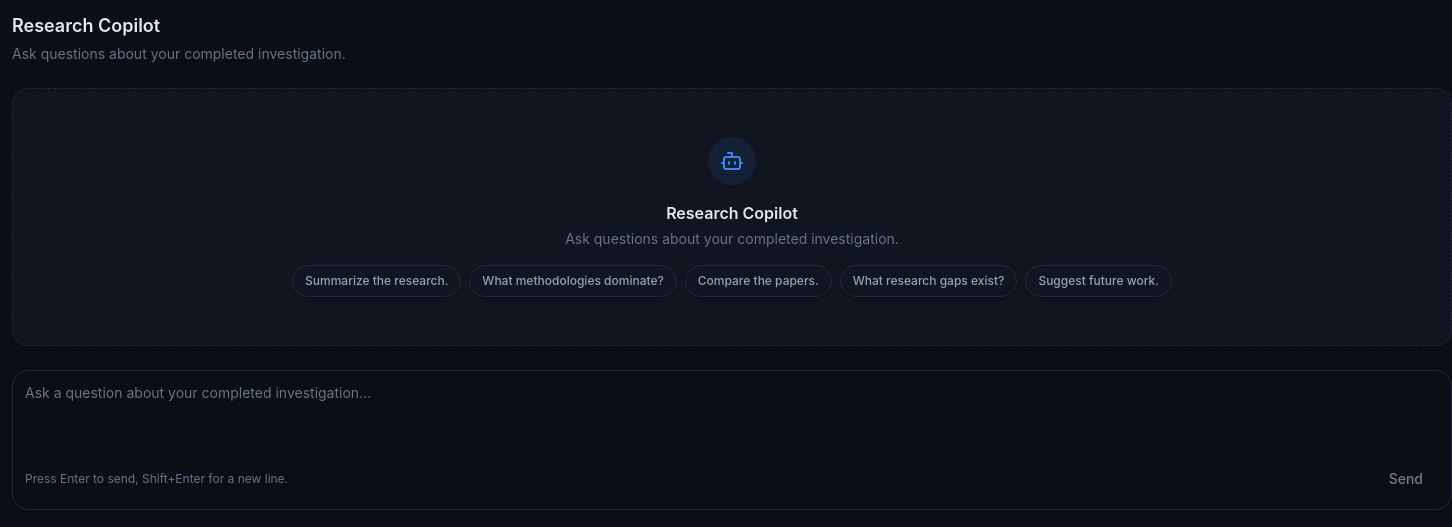
CopilotPage › shows retry when stream errors
Expected: the 1st heading "Research Copilot" is shown, [12,15,160,36]
Type "Summarize the research." into the text box at (732, 413), box [25,383,1439,443]
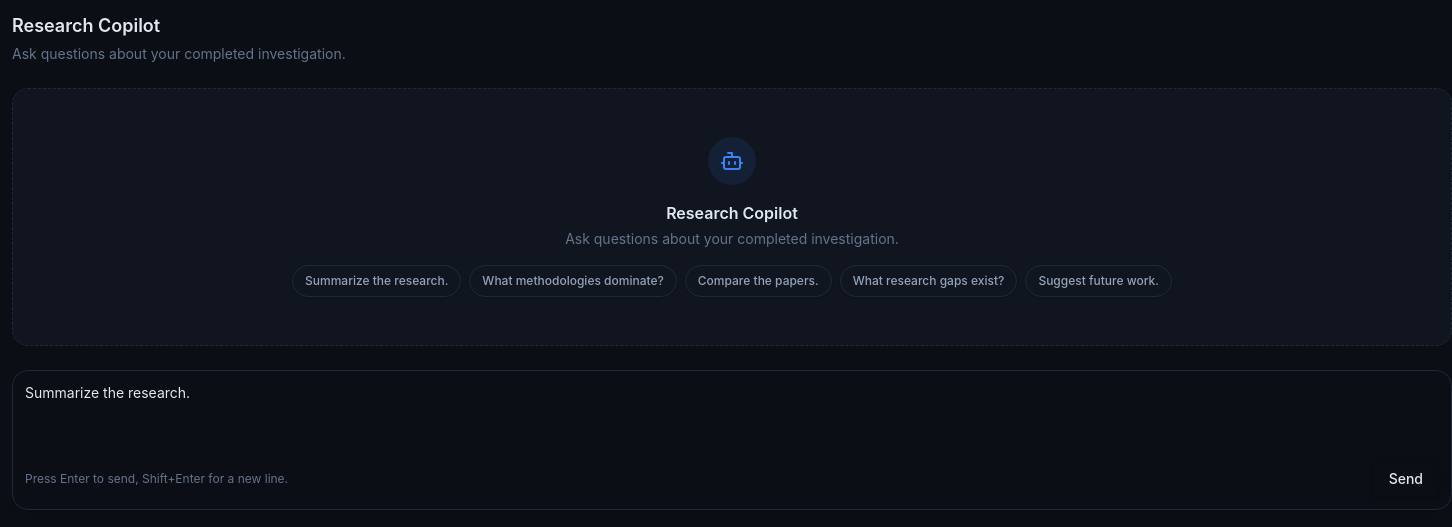
Press Enter
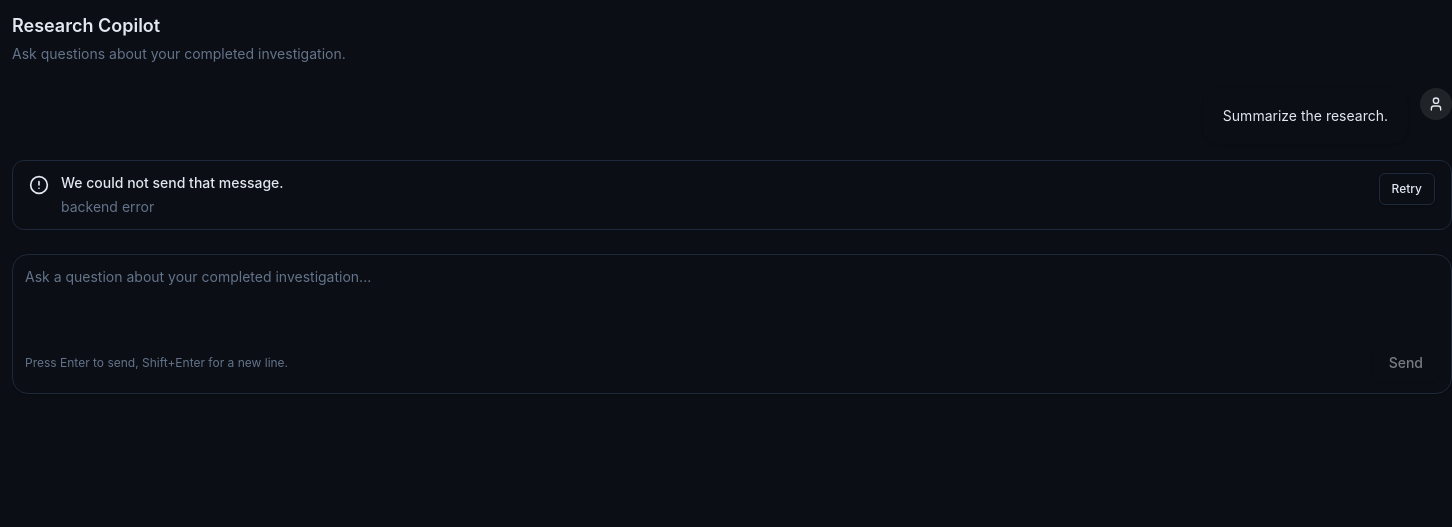
Result: the text "backend error" is shown at [61,198,154,215]
Result: the button "Retry" is shown at [1378,173,1435,205]
